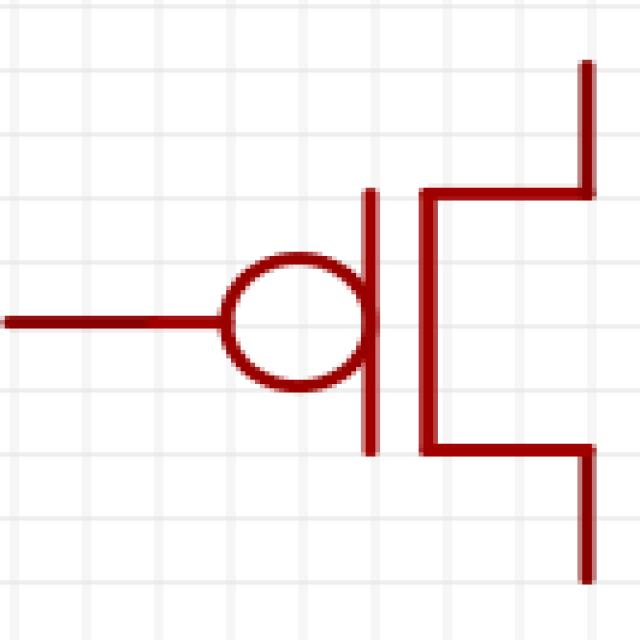pmos: (62, 76, 640, 550)
